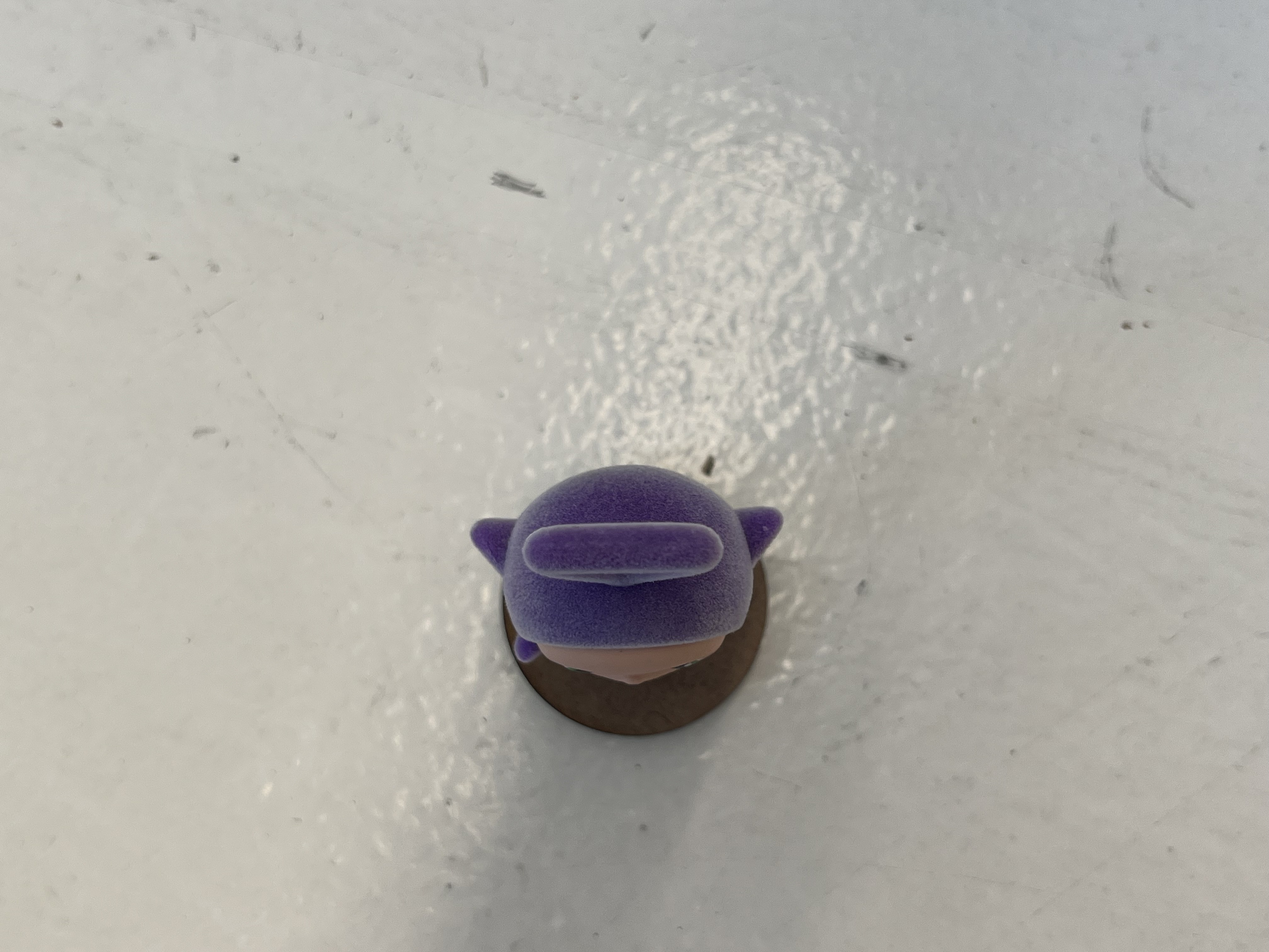teletubby: (472, 466, 782, 685)
